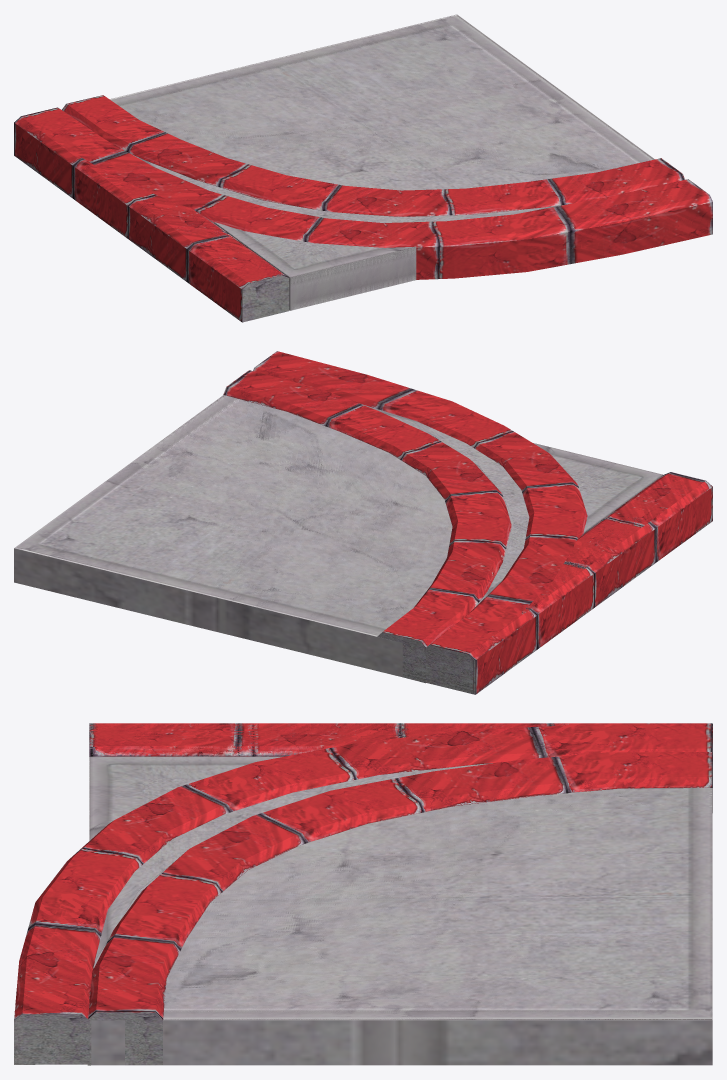
File: GE_GRND_StreetTiles01.fbx
The picture shows the model from 3 angles, top to bottom: view 1: azimuth 30°, elevation 25°; view 2: azimuth 150°, elevation 25°; view 3: azimuth 270°, elevation 25°; orthographic projection. The views are drawn at different scales.
Visible parts, largest first — view 1: GE_GRND_Sidewalk_CurbRed01, GE_GRND_Sidewalk_01, GE_GRND_Sidewalk_CornerOut_CurbRed01, GE_GRND_Sidewalk_CornerIn_CurbRed01, GE_GRND_Sidewalk_CurbRed02, GE_GRND_Sidewalk_CurbRed03; view 2: GE_GRND_Sidewalk_CurbRed02, GE_GRND_Sidewalk_CurbRed01, GE_GRND_Sidewalk_CornerOut_CurbRed01, GE_GRND_Sidewalk_CornerIn_CurbRed01, GE_GRND_Sidewalk_01, GE_GRND_Sidewalk_CurbRed03; view 3: GE_GRND_Sidewalk_01, GE_GRND_Sidewalk_CornerOut_CurbRed01, GE_GRND_Sidewalk_CornerIn_CurbRed01, GE_GRND_Sidewalk_CurbRed01, GE_GRND_Sidewalk_CurbRed02, GE_GRND_Sidewalk_CurbRed03.
Part boxes in pixels (x1,y1,x2,y2): GE_GRND_Sidewalk_CurbRed01: [14, 15, 652, 322]; GE_GRND_Sidewalk_01: [112, 14, 654, 310]; GE_GRND_Sidewalk_CornerOut_CurbRed01: [21, 14, 712, 279]; GE_GRND_Sidewalk_CornerIn_CurbRed01: [62, 95, 684, 277]; GE_GRND_Sidewalk_CurbRed02: [27, 17, 638, 321]; GE_GRND_Sidewalk_CurbRed03: [35, 103, 644, 322]; GE_GRND_Sidewalk_CurbRed02: [15, 395, 626, 692]; GE_GRND_Sidewalk_CurbRed01: [81, 396, 712, 694]; GE_GRND_Sidewalk_CornerOut_CurbRed01: [14, 351, 587, 694]; GE_GRND_Sidewalk_CornerIn_CurbRed01: [223, 370, 662, 683]; GE_GRND_Sidewalk_01: [119, 395, 513, 622]; GE_GRND_Sidewalk_CurbRed03: [315, 427, 705, 647]; GE_GRND_Sidewalk_01: [89, 757, 712, 1019]; GE_GRND_Sidewalk_CornerOut_CurbRed01: [14, 723, 712, 1065]; GE_GRND_Sidewalk_CornerIn_CurbRed01: [87, 752, 712, 1065]; GE_GRND_Sidewalk_CurbRed01: [89, 723, 711, 1019]; GE_GRND_Sidewalk_CurbRed02: [89, 723, 708, 1019]; GE_GRND_Sidewalk_CurbRed03: [89, 723, 686, 963].
Size of what is drawn, in the model's own units: 224 by 18.84 by 224.
